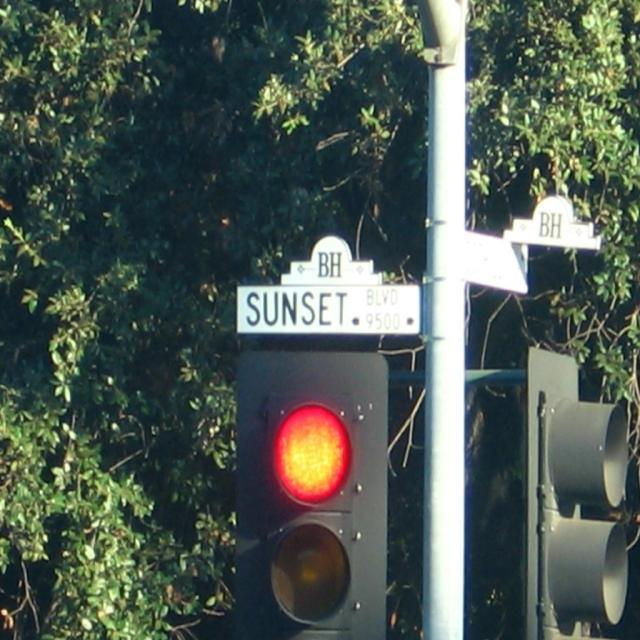traffic light: (245, 365, 370, 640)
